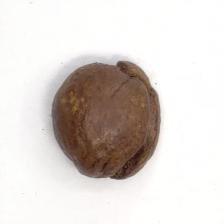NG: (111, 59, 162, 183)
